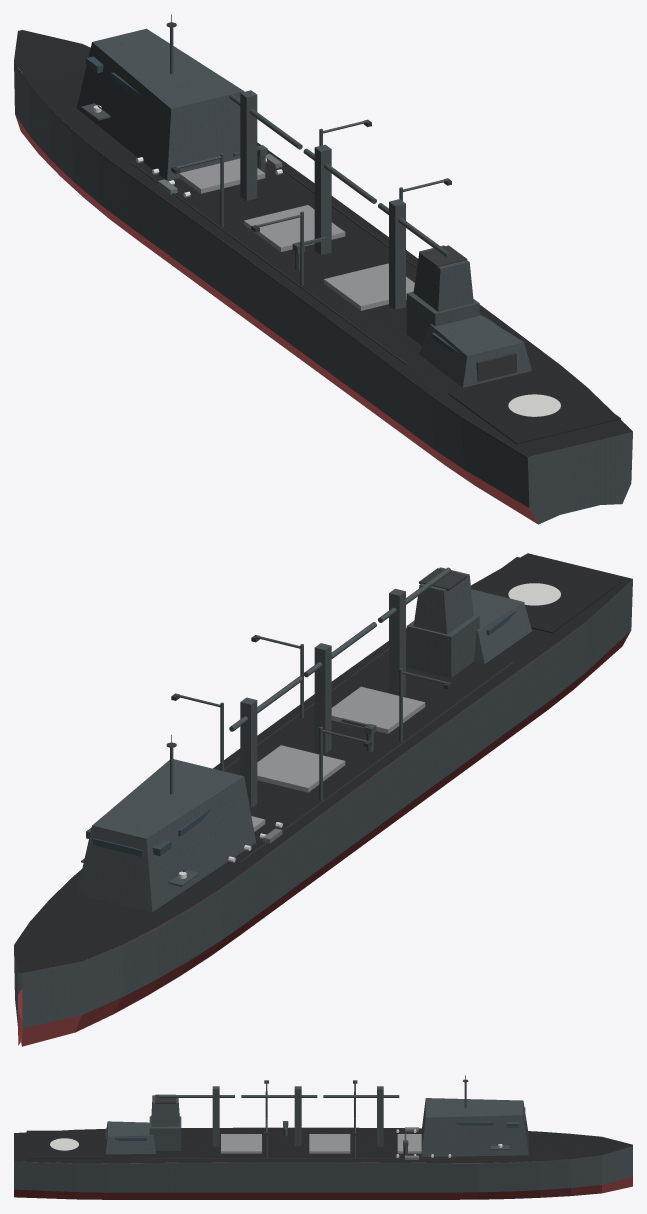
The model's file is type_panshi.glb.
3 renders of one model, top to bottom at view 1: azimuth 30°, elevation 25°; view 2: azimuth 150°, elevation 25°; view 3: azimuth 270°, elevation 25°, orthographic. The views are drawn at different scales.
Visible parts, largest first — view 1: panshi_hull; view 2: panshi_hull; view 3: panshi_hull.
Part boxes in pixels (left/top/right/bottom): panshi_hull: left=14, top=14, right=632, bottom=524; panshi_hull: left=14, top=553, right=632, bottom=1046; panshi_hull: left=14, top=1075, right=632, bottom=1199.
Bounding box in the file's own units: 39.69 × 41.11 × 196.
3 materials, 3 textured.
